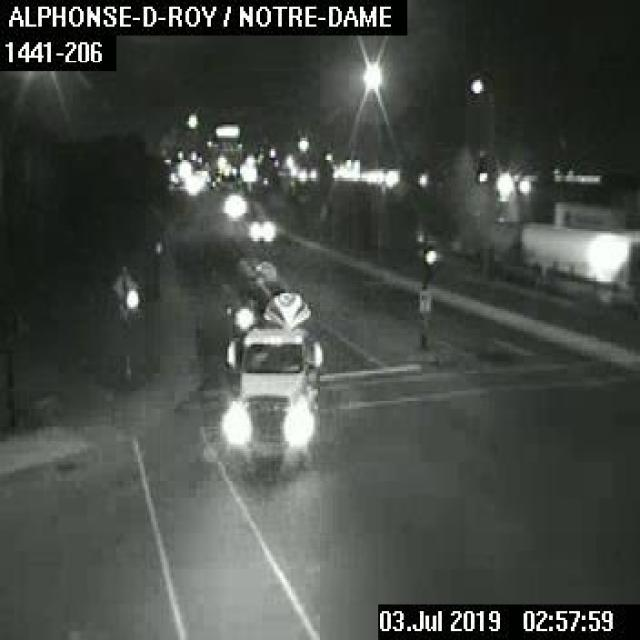vehicle: (219, 248, 322, 466), (248, 216, 276, 242)
